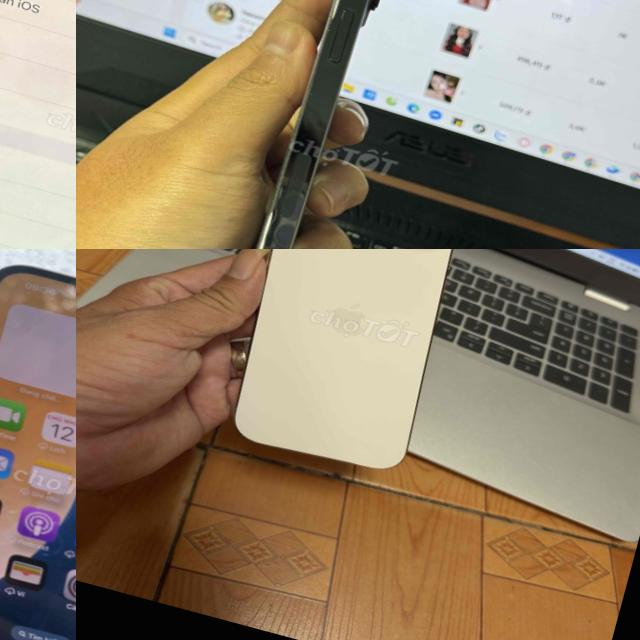gen_12_13: (183, 0, 423, 249), (0, 249, 76, 640)
gen_15: (0, 0, 76, 249)
gen_17: (214, 249, 482, 493)
